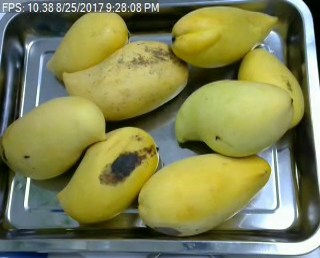Mango: (138, 152, 272, 236), (63, 40, 188, 120), (58, 126, 159, 223), (176, 80, 296, 158), (0, 97, 106, 177), (169, 7, 279, 67), (46, 9, 129, 80), (239, 47, 305, 130)
